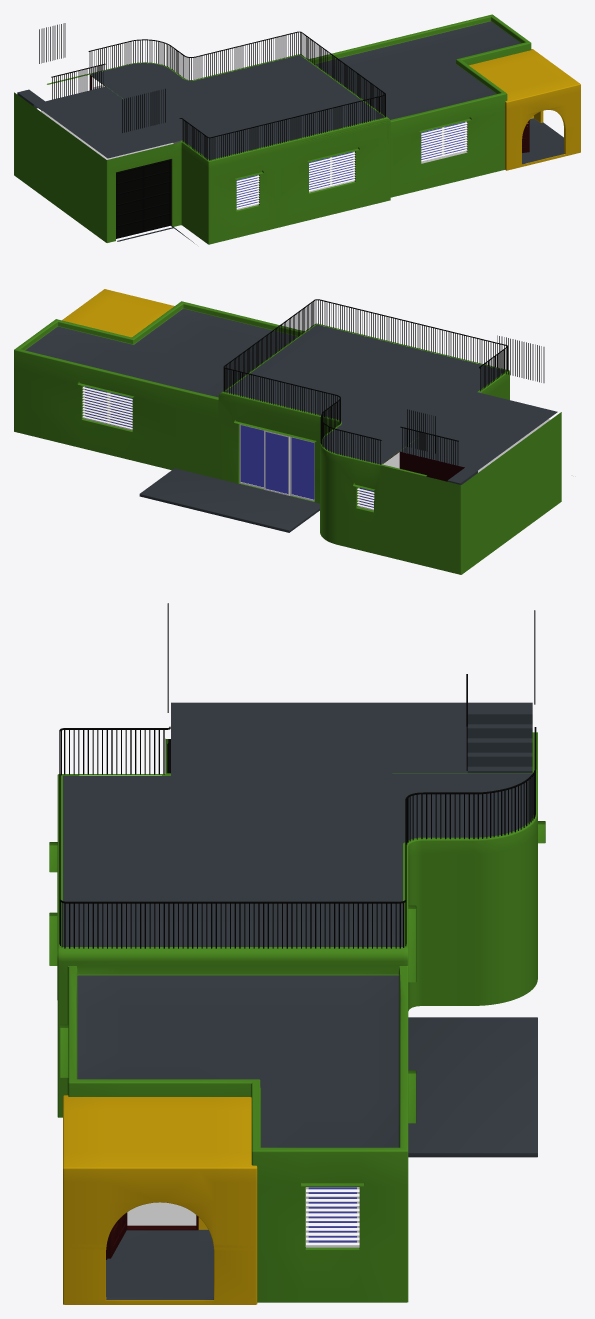
Rendered from house.glb.
3 views of the same model, one above another, from view 1: azimuth 30°, elevation 25°; view 2: azimuth 150°, elevation 25°; view 3: azimuth 270°, elevation 25° (orthographic). The views are drawn at different scales.
Visible parts, largest first — view 1: Walls_Main1, Stairs, Window_Bars1006, Walls_Entry, Window_Door1, Walls_Annex_Interior003; view 2: Walls_Main1, Stairs, Window_Bars1006, Window_Door1, Walls_Entry, Walls_Annex_Interior001, Walls_Annex_Interior003; view 3: Stairs, Walls_Main1, Walls_Entry, Window_Bars1006, Window_Door1, Walls_Annex_Interior003, Door_Frame.
Part boxes in pixels (x1,y1,x2,y2): Walls_Main1: [14, 14, 531, 244]; Stairs: [17, 21, 564, 243]; Window_Bars1006: [39, 23, 385, 238]; Walls_Entry: [469, 49, 580, 170]; Window_Door1: [236, 121, 467, 209]; Walls_Annex_Interior003: [40, 85, 467, 163]; Walls_Main1: [14, 301, 561, 574]; Stairs: [25, 308, 557, 532]; Window_Bars1006: [223, 299, 544, 465]; Window_Door1: [82, 386, 374, 510]; Walls_Entry: [62, 289, 174, 337]; Walls_Annex_Interior001: [383, 451, 464, 481]; Walls_Annex_Interior003: [382, 392, 550, 472]; Stairs: [63, 702, 537, 1299]; Walls_Main1: [49, 732, 545, 1302]; Walls_Entry: [63, 1095, 257, 1304]; Window_Bars1006: [59, 603, 536, 948]; Window_Door1: [306, 1187, 359, 1247]; Walls_Annex_Interior003: [127, 1187, 305, 1246]; Door_Frame: [106, 1212, 198, 1259].
Size of the model in its own units: 1925 by 574 by 919.
